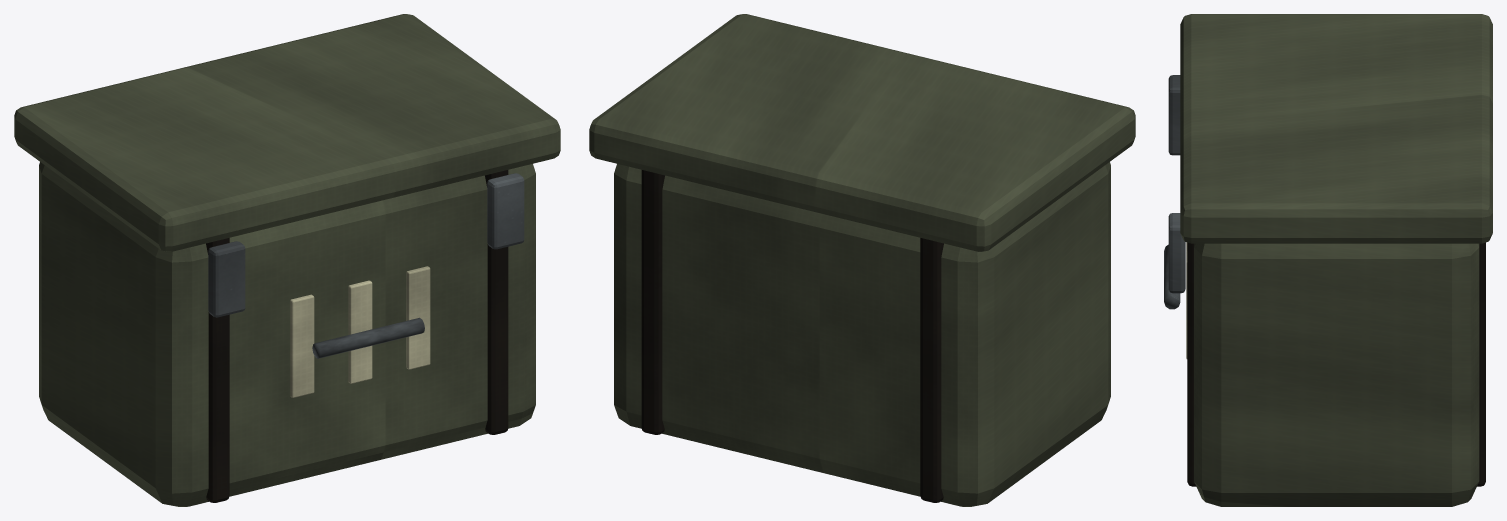
File: supply_crate.glb
The picture shows the model from 3 angles, left to right: view 1: azimuth 30°, elevation 25°; view 2: azimuth 150°, elevation 25°; view 3: azimuth 270°, elevation 25°; orthographic projection.
Visible parts, largest first — view 1: Ribbed_supply_case, Sealed_lid, Corner_rib.002, Corner_rib, Latch, Latch.001, Ammunition_stencil, Ammunition_stencil.002, Ammunition_stencil.001, Carry_handle; view 2: Ribbed_supply_case, Sealed_lid, Corner_rib.003, Corner_rib.001; view 3: Ribbed_supply_case, Sealed_lid, Corner_rib.002, Corner_rib.003, Latch.001, Latch, Carry_handle.
Boxes of the visible parts, <box> form: Ribbed_supply_case: <box>39,162,535,506</box>; Sealed_lid: <box>14,14,560,251</box>; Corner_rib.002: <box>485,170,508,434</box>; Corner_rib: <box>206,238,229,502</box>; Latch: <box>208,241,245,317</box>; Latch.001: <box>487,173,524,249</box>; Ammunition_stencil: <box>290,294,314,397</box>; Ammunition_stencil.002: <box>406,266,430,369</box>; Ammunition_stencil.001: <box>348,280,372,383</box>; Carry_handle: <box>312,317,424,358</box>; Ribbed_supply_case: <box>614,162,1110,506</box>; Sealed_lid: <box>589,14,1135,251</box>; Corner_rib.003: <box>641,170,664,434</box>; Corner_rib.001: <box>920,238,943,502</box>; Ribbed_supply_case: <box>1194,243,1479,506</box>; Sealed_lid: <box>1180,14,1492,243</box>; Corner_rib.002: <box>1187,242,1195,486</box>; Corner_rib.003: <box>1477,242,1485,486</box>; Latch.001: <box>1168,213,1185,293</box>; Latch: <box>1168,75,1180,155</box>; Carry_handle: <box>1164,244,1180,309</box>.
Size of the model in its own units: 0.69 by 0.5125 by 0.484.
Materials: 4 (4 with a texture image).
